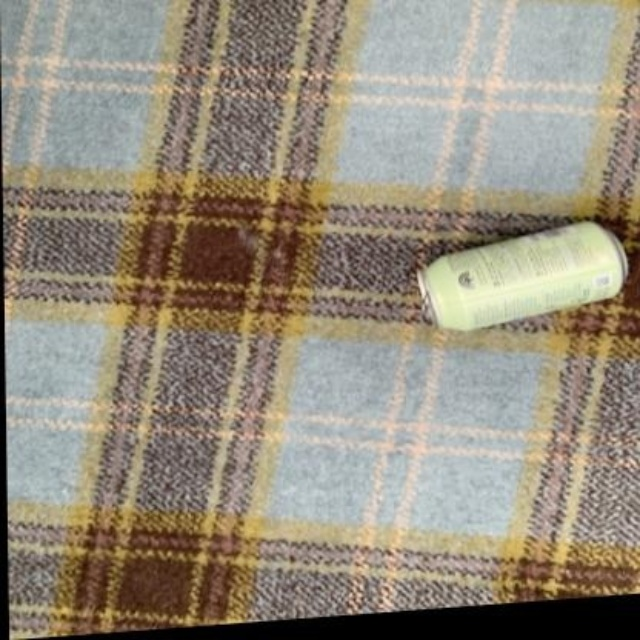trash: (417, 222, 626, 329)
